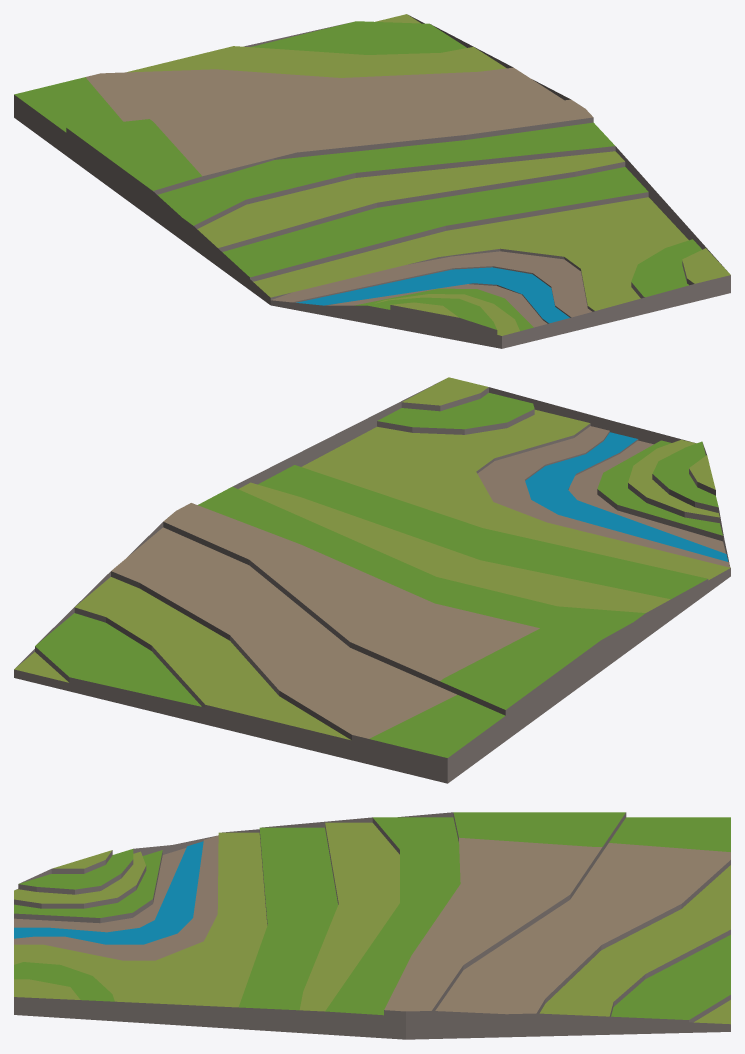
Rendered from Base_Landmass_-_No_Vegetation_1_BLUE.fbx.glb.
3 views of the same model, one above another, from view 1: azimuth 30°, elevation 25°; view 2: azimuth 150°, elevation 25°; view 3: azimuth 270°, elevation 25° (orthographic). The views are drawn at different scales.
Parts seen in each view (by area): view 1: Model.1; view 2: Model.1; view 3: Model.1.
Part boxes in pixels (x1,y1,x2,y2): Model.1: [14, 14, 730, 348]; Model.1: [14, 377, 730, 783]; Model.1: [14, 812, 730, 1039].
Size of the model in its own units: 1998 by 132 by 3039.
